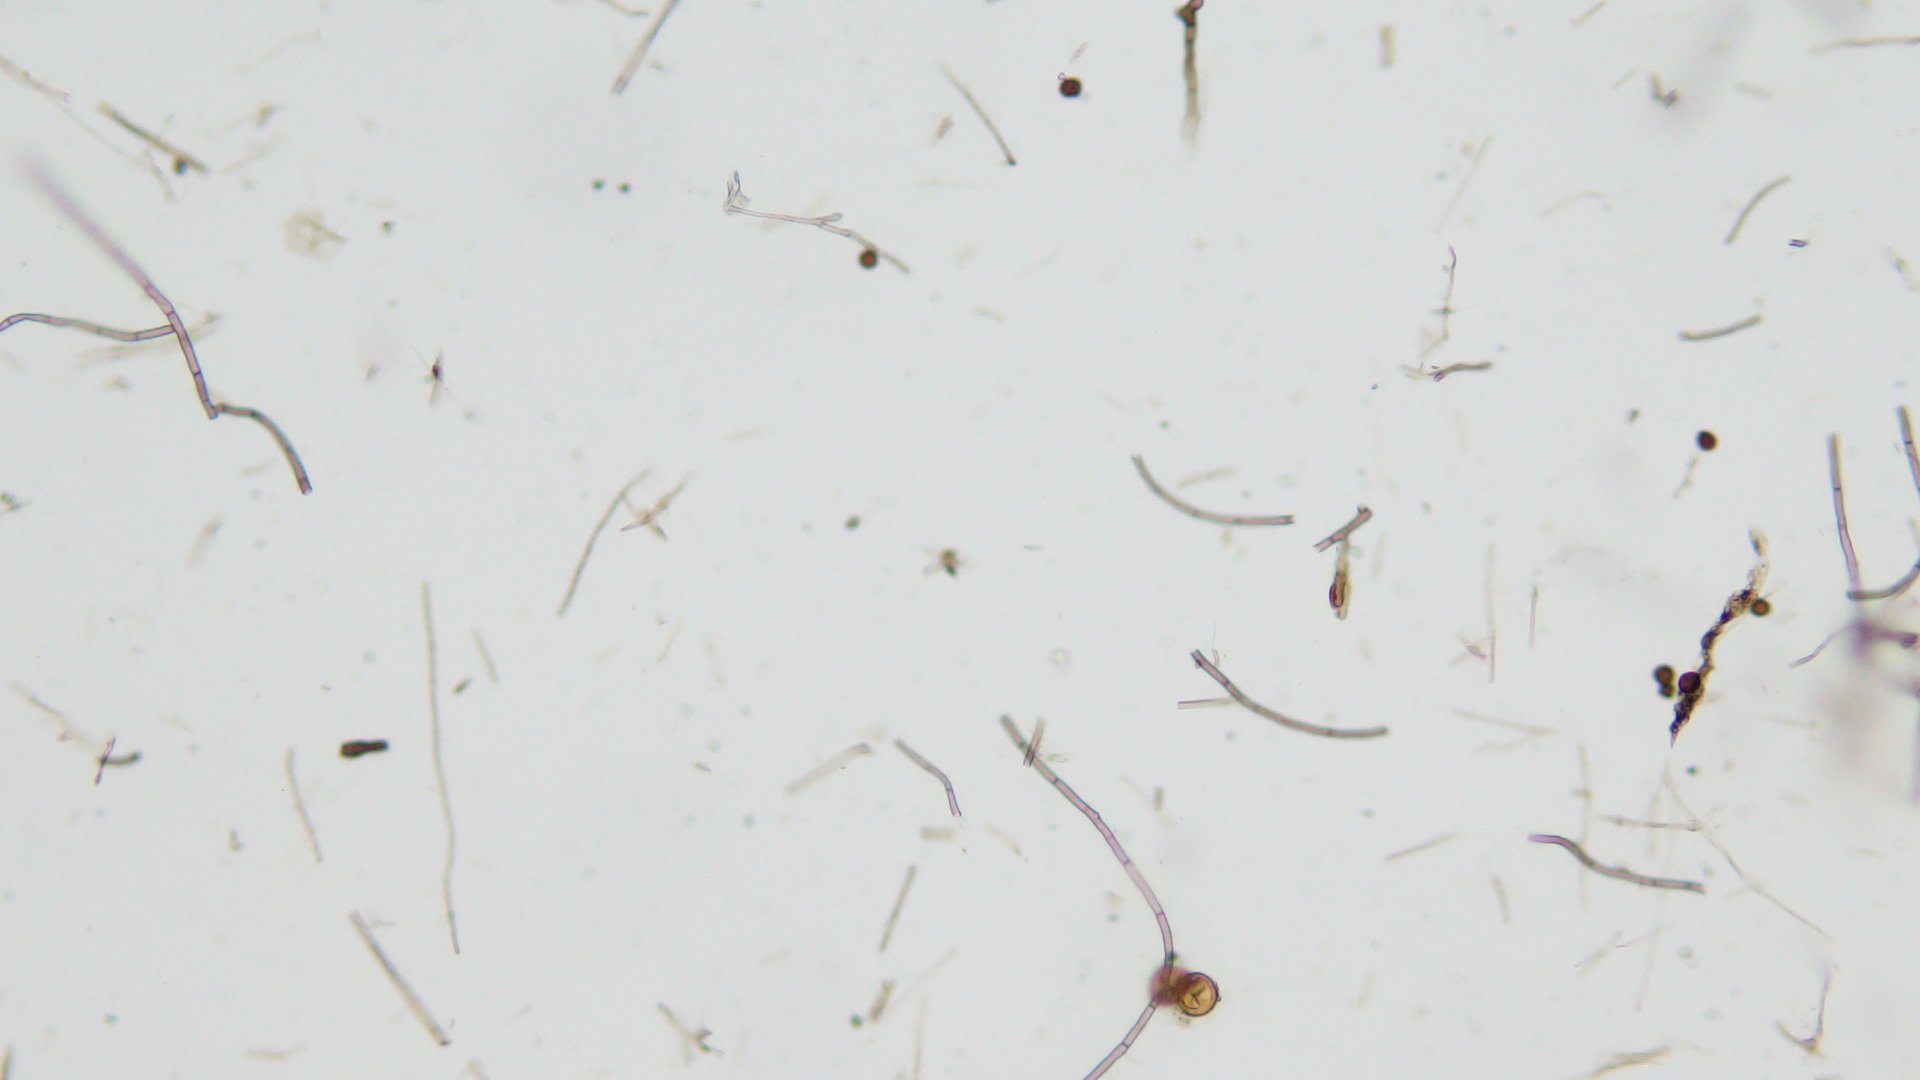shs_spore: (1677, 669, 1700, 695), (1695, 431, 1720, 454), (1062, 76, 1084, 99), (1749, 597, 1771, 618), (1655, 665, 1672, 686)
xb_spore: (1175, 973, 1220, 1021)
